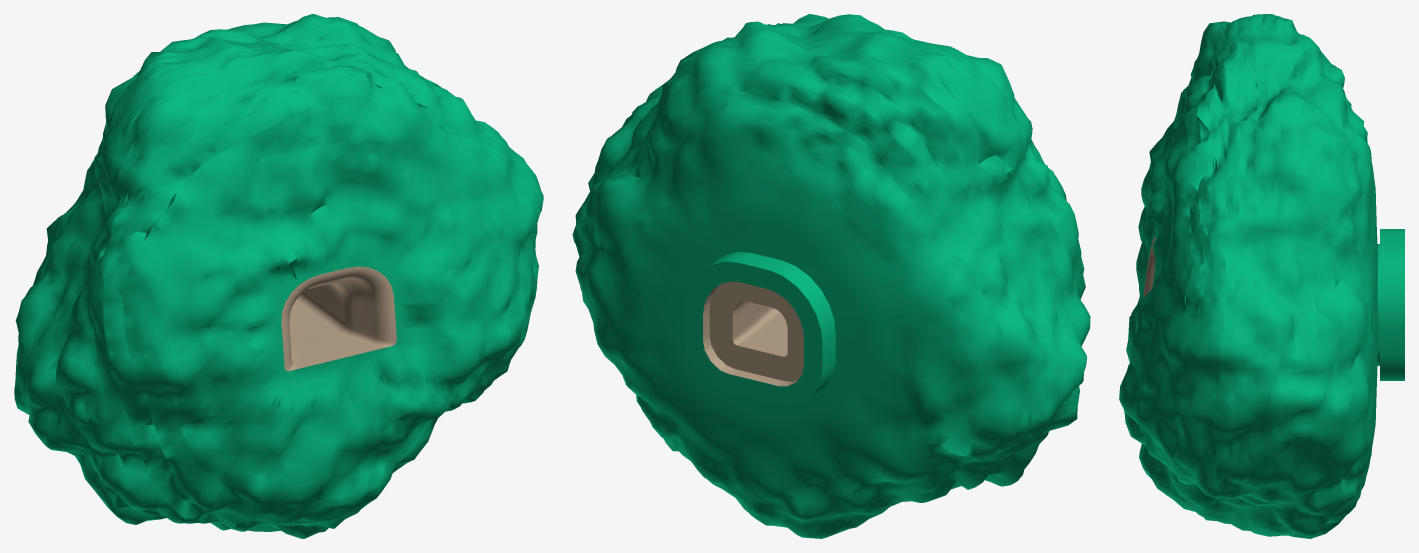
The model's file is TT_P_Entry_Horizontal.fbx.
3 views of the same model, side by side, from view 1: azimuth 30°, elevation 25°; view 2: azimuth 150°, elevation 25°; view 3: azimuth 270°, elevation 25° (orthographic). The views are drawn at different scales.
Parts seen in each view (by area): view 1: TT_P_Entry_Horizontal_LOD0; view 2: TT_P_Entry_Horizontal_LOD0; view 3: TT_P_Entry_Horizontal_LOD0.
Part boxes in pixels (box(x1,y1,x2,y2)): TT_P_Entry_Horizontal_LOD0: box(14, 14, 543, 538); TT_P_Entry_Horizontal_LOD0: box(572, 14, 1090, 538); TT_P_Entry_Horizontal_LOD0: box(1119, 14, 1404, 538).
Size of the model in its own units: 1071 by 1036 by 574.
